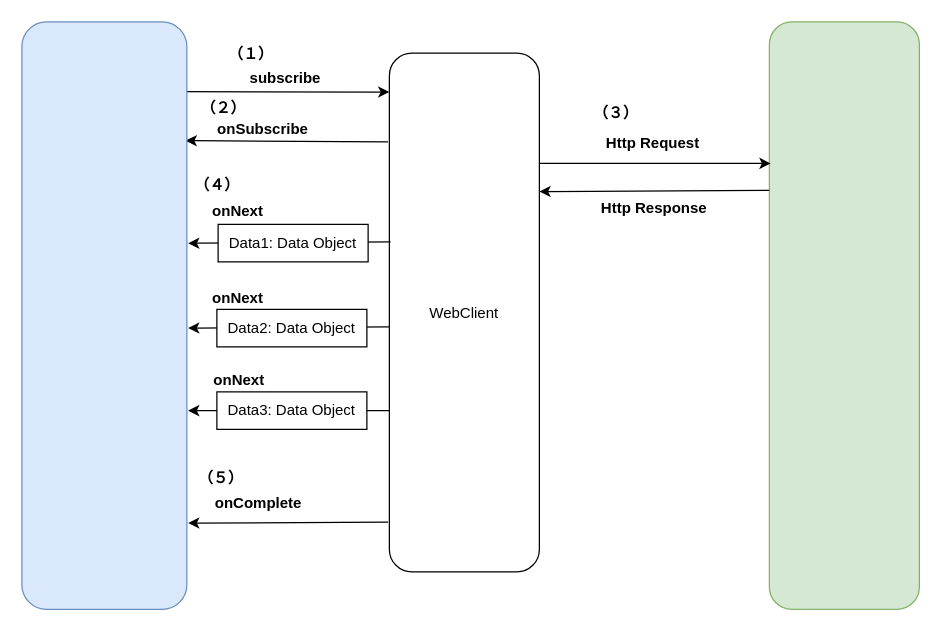
Image size: 941x631. Some labels were removed from this diagram. The centre of each missing label's shape, as x and y in pixels:
"Client Application" goes at (x=104, y=315).
"RestAPI (Server)" goes at (x=843, y=315).
